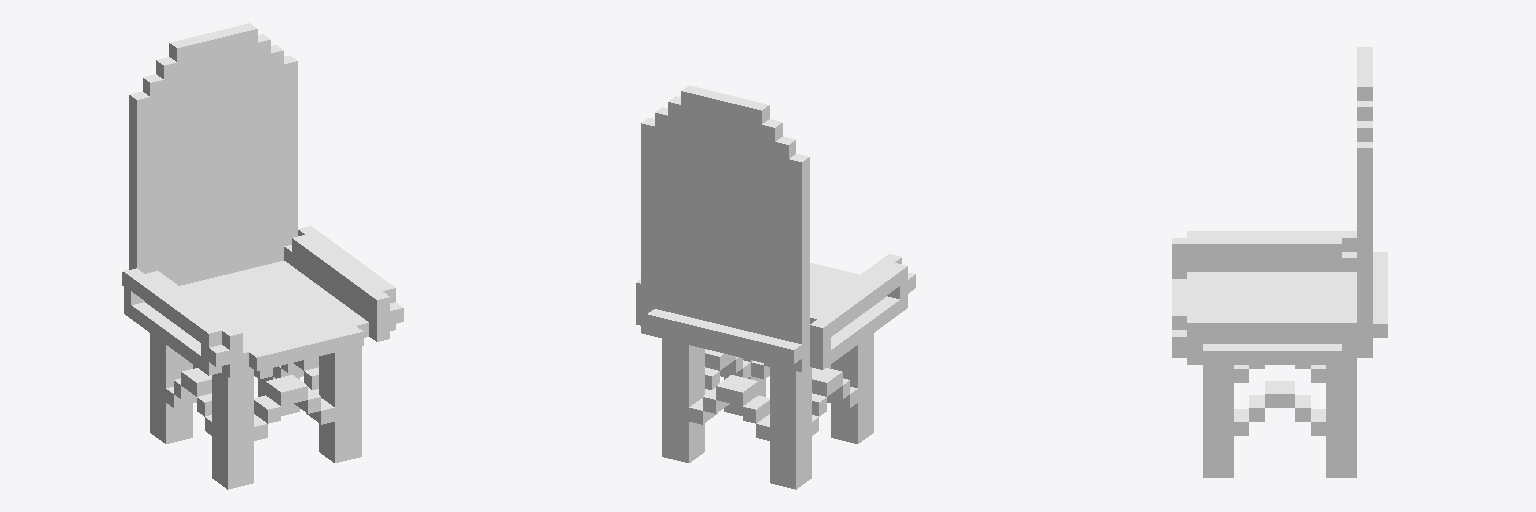
File: prop_chair_light_brown.obj
3 views of the same model, side by side, from view 1: azimuth 30°, elevation 25°; view 2: azimuth 150°, elevation 25°; view 3: azimuth 270°, elevation 25° (orthographic).
Visible parts, largest first — view 1: object 1; view 2: object 1; view 3: object 1.
Boxes of the visible parts, x1,y1,x2,y2 form: object 1: [122, 23, 403, 489]; object 1: [636, 85, 915, 489]; object 1: [1172, 47, 1387, 477].
Size of the model in its own units: 1.4 by 2.7 by 1.4.